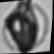correct: (0, 0, 52, 54)
